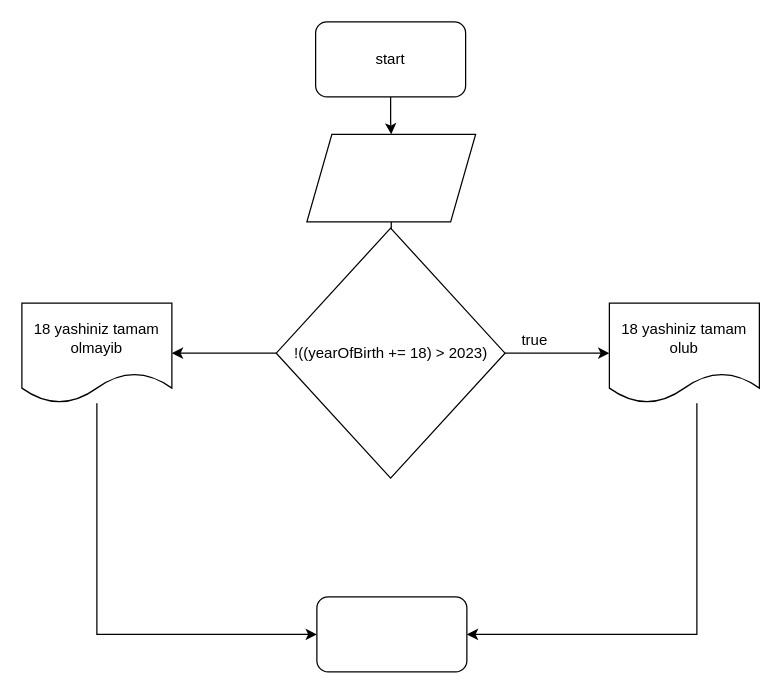
Image size: 781x694. Some labels were removed from this diagram. The shapes that lost their labels are listed below. From the top down, each one's centre as x and y in pixels, then its label:
(x=391, y=177): yearOfBirth
(x=391, y=634): end
